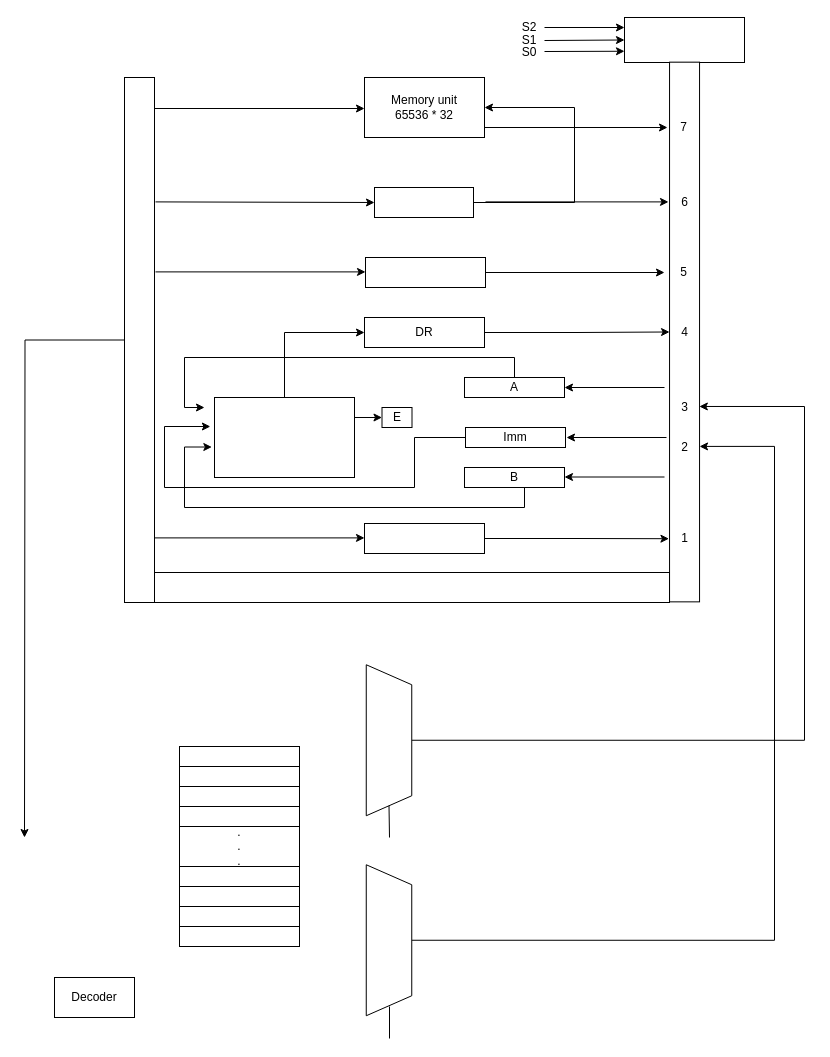
Some shapes in this 830 by 1057 pixel diagram are drawn without their labels. Each missing label, with the box of its shape:
ALU: (214, 396, 354, 478)
AR (16): (374, 186, 474, 218)
Bus: (624, 16, 744, 62)
IR: (364, 522, 484, 554)
Pc: (364, 256, 486, 288)
